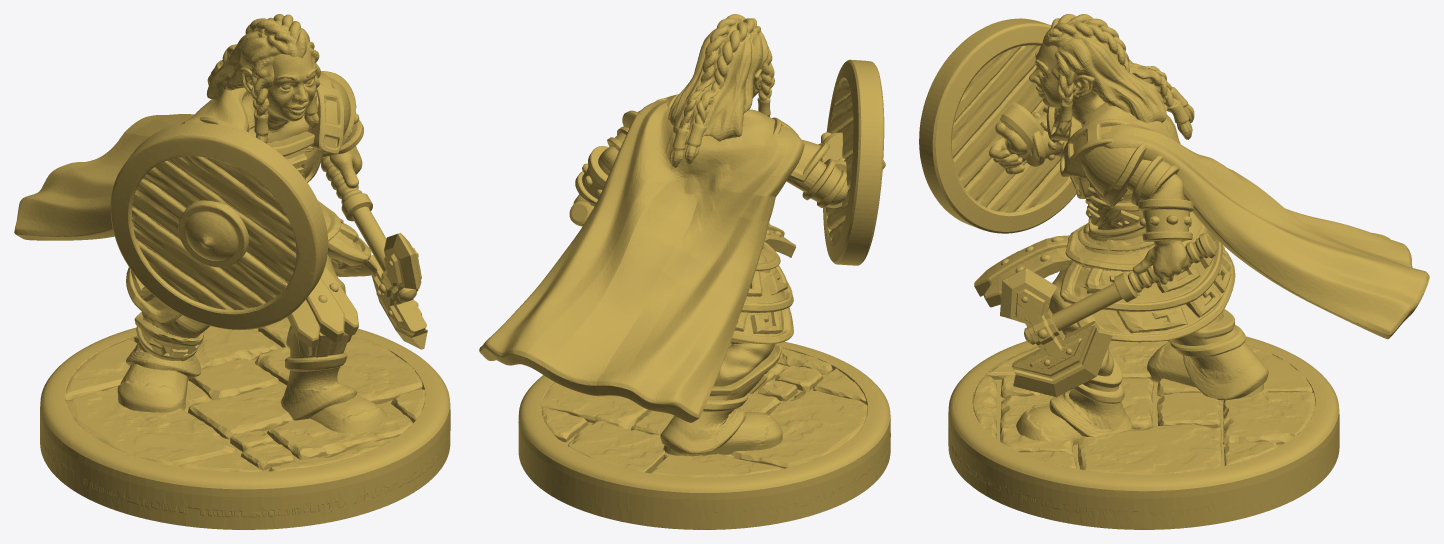
The model's file is marria.glb.
The picture shows the model from 3 angles, left to right: view 1: azimuth 30°, elevation 25°; view 2: azimuth 150°, elevation 25°; view 3: azimuth 270°, elevation 25°; orthographic projection. The views are drawn at different scales.
Visible parts, largest first — view 1: marria; view 2: marria; view 3: marria.
Part boxes in pixels (x1,y1,x2,y2): marria: [14, 14, 450, 529]; marria: [479, 14, 890, 529]; marria: [919, 14, 1429, 529].
Bounding box in the file's own units: 30.6 × 37 × 39.95.
